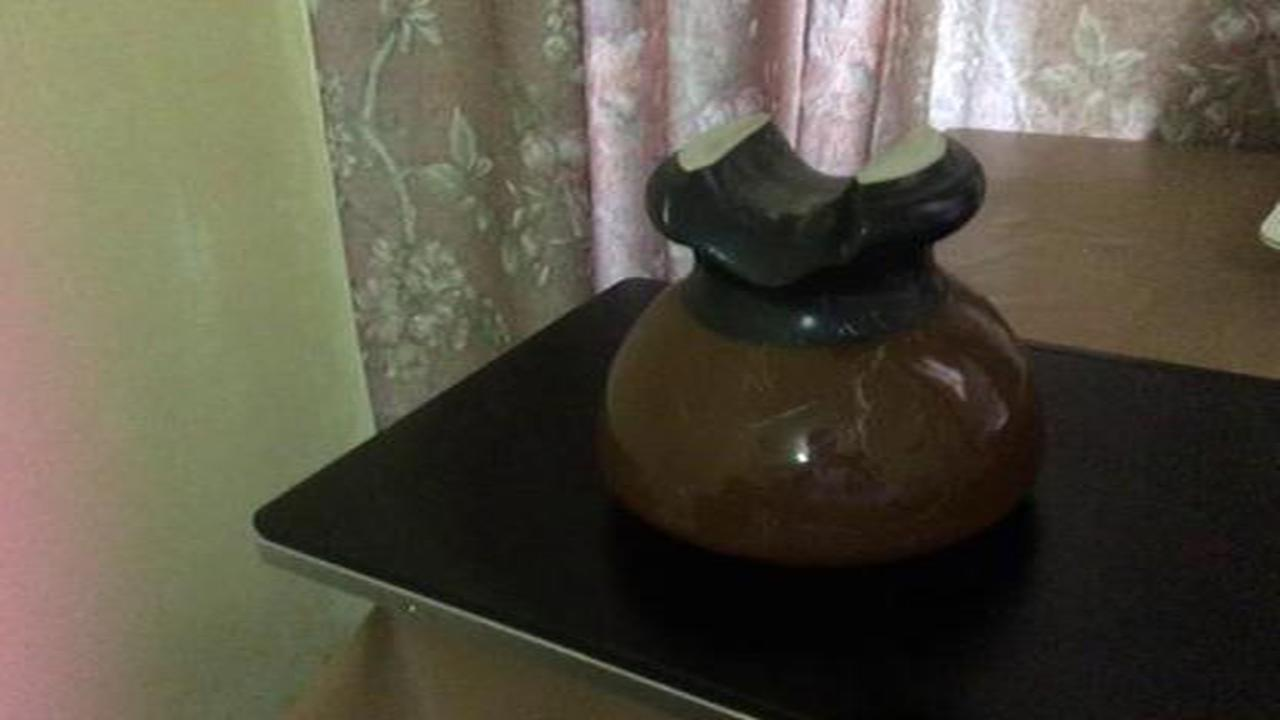insulator_pin: (576, 99, 1071, 577)
